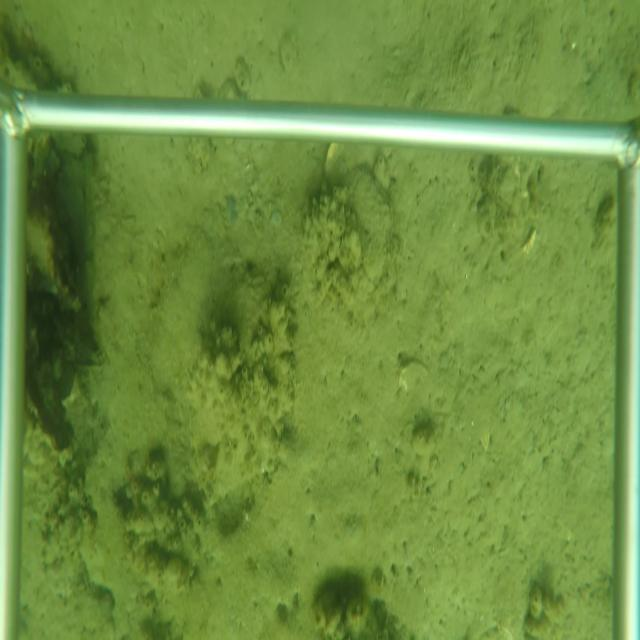Oyster-Closed: (323, 141, 345, 179)
Oyster-Indeterminate: (336, 164, 395, 286)
